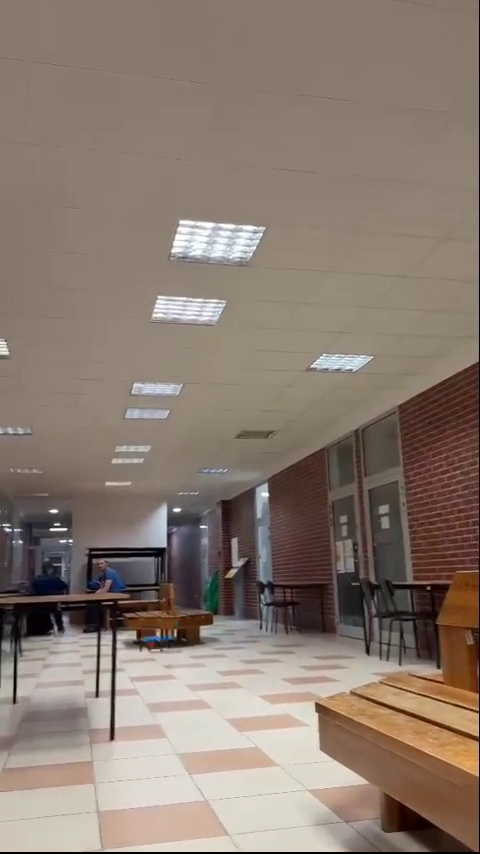drone: (135, 634, 188, 650)
no vest: (27, 562, 68, 631), (83, 548, 126, 608)
